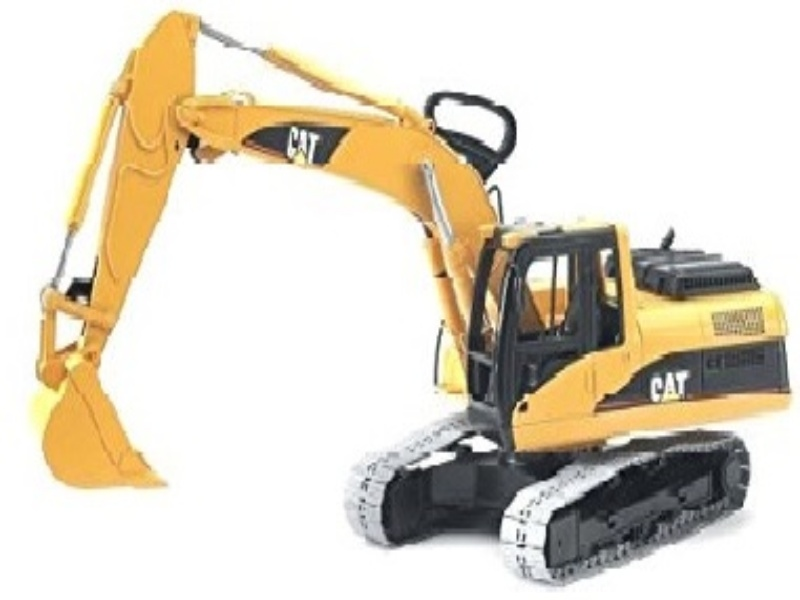wajueji: (36, 10, 796, 584)
